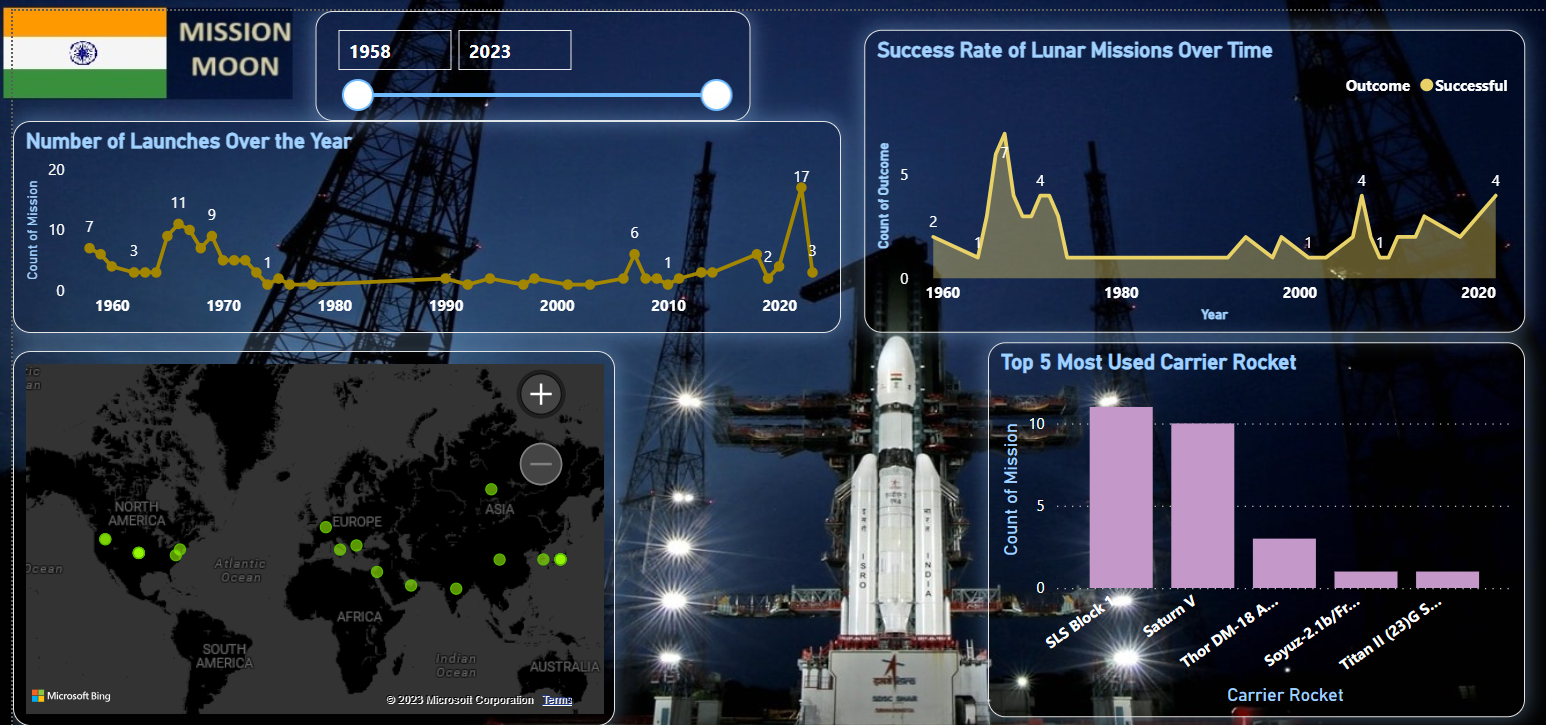

The page's visual inventory and layout, read from the dashboard file:
{"tool":"powerbi","page":{"name":"Dashboard 2","canvas":[1280,720],"ordinal":1},"visuals":[{"type":"slicer","fields":{"Values":["Moonlanding.Launch Date.Variation.Date Hierarchy.Year"]},"box":[242,0,348,88],"z":0},{"type":"columnChart","title":"Top 5 Most Used Carrier Rocket","fields":{"Category":["Moonlanding.Carrier Rocket"],"Y":["CountNonNull(Moonlanding.Mission)"]},"box":[780,265,430,300],"z":1000},{"type":"map","fields":{"Category":["Moonlanding.Operator"]},"box":[0,272,482,300],"z":2000},{"type":"lineChart","title":"Number of Launches Over the  Year","fields":{"Category":["Moonlanding.Launch Date.Variation.Date Hierarchy.Year"],"Y":["CountNonNull(Moonlanding.Mission)"]},"box":[0,88,663,170],"z":3000},{"type":"areaChart","title":"Success Rate of Lunar Missions Over Time","fields":{"Category":["Moonlanding.Launch Date.Variation.Date Hierarchy.Year"],"Series":["Moonlanding.Outcome"],"Y":["CountNonNull(Moonlanding.Outcome)"]},"box":[681,15,529,243],"z":3001}]}

Visuals, with their boxes on the page's 1280x720 design canvas (x1, y1, x2, y2). These are canvas units, not pixel positions in the 1546x725 screenshot, which may show the page scaled, cropped or inside an application window:
slicer - Moonlanding.Launch Date.Variation.Date Hierarchy.Year: 242/0/590/88
"Top 5 Most Used Carrier Rocket" columnChart: 780/265/1210/565
map - Moonlanding.Operator: 0/272/482/572
"Number of Launches Over the  Year" lineChart: 0/88/663/258
"Success Rate of Lunar Missions Over Time" areaChart: 681/15/1210/258
